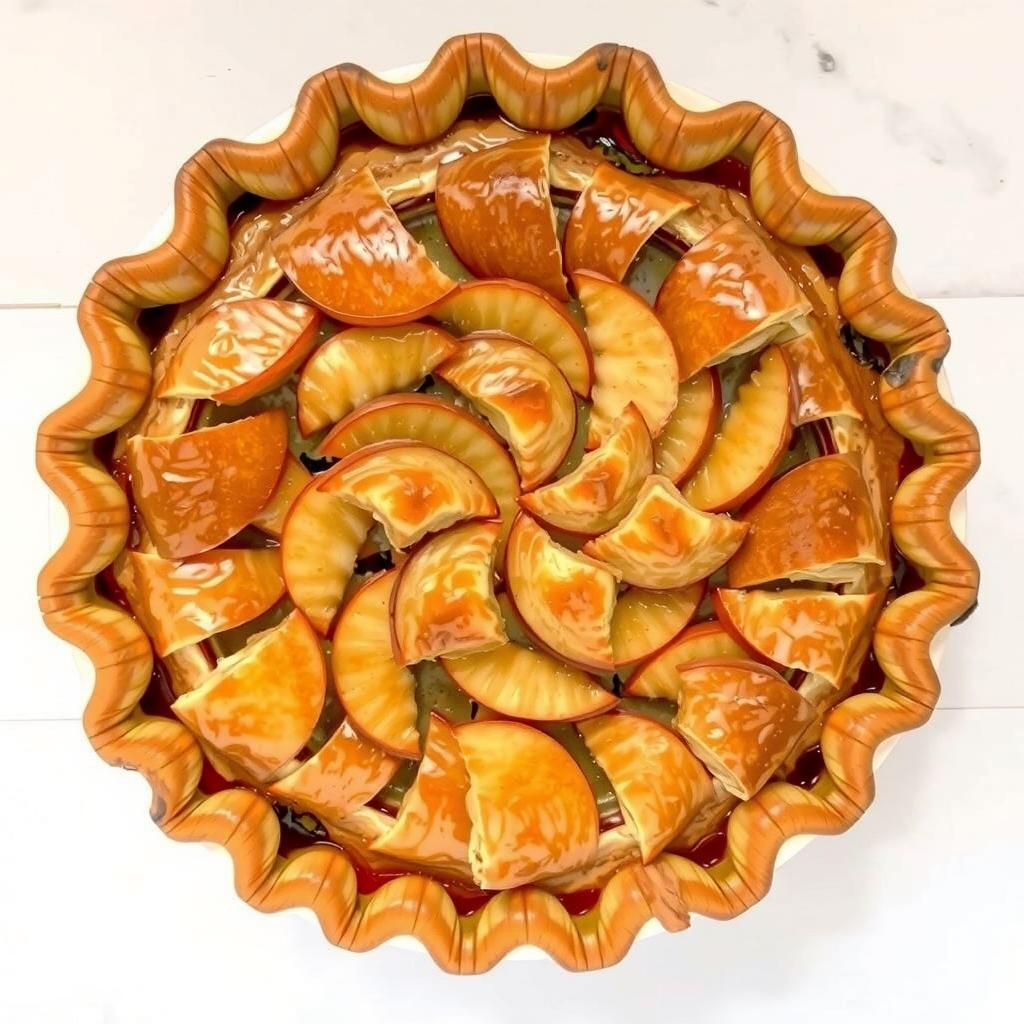cake: (26, 23, 1004, 984)
